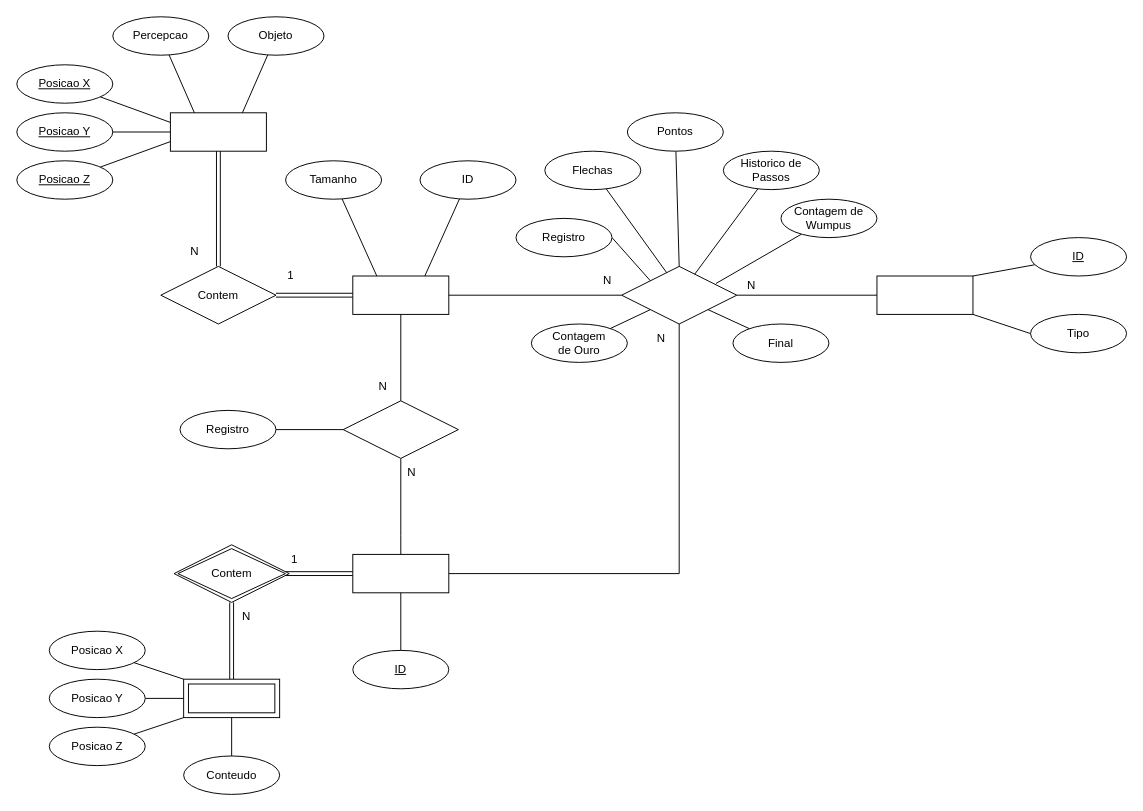
This 1143x811 diagram has some shape labels left out. Here are the shapes that lost their labels. From the top down, the centre of each, then its label:
the point at 217,131: Sala
the point at 400,294: Mundo
the point at 679,294: Explora
the point at 924,294: Agente
the point at 400,429: Baseada
the point at 400,573: Memoria
the point at 231,698: Celulas
